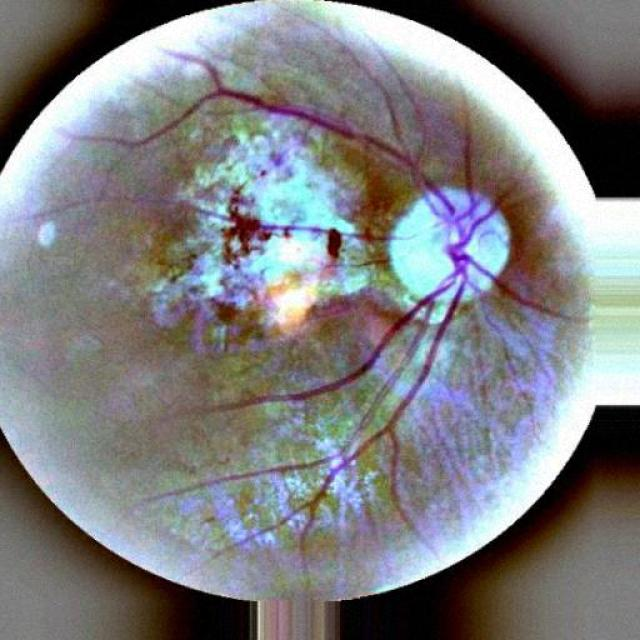Nerves: (135, 52, 556, 504), (259, 222, 339, 258)
Optic Disk: (388, 186, 509, 322)
